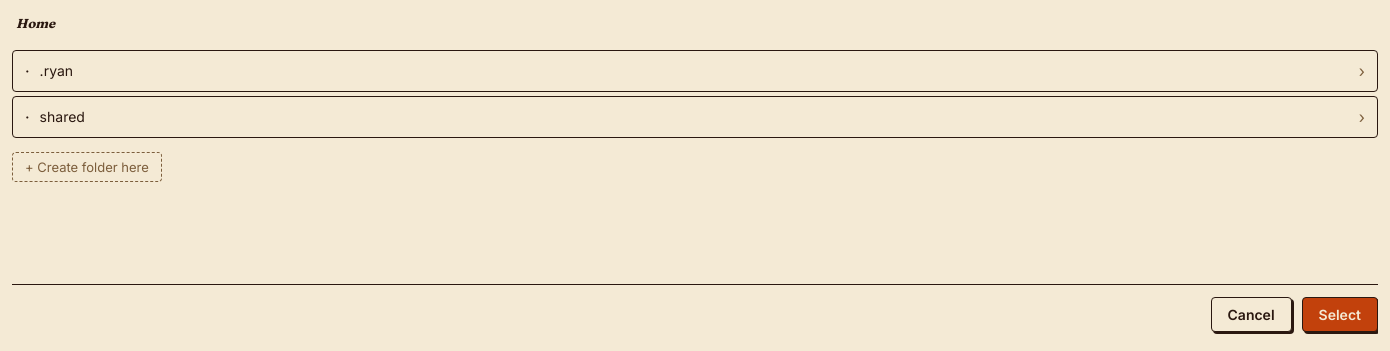
it: FolderPickerModal › drill-down: shows top-level folders at Home, tapping drills in
expect the text "shared" is shown: met, box [40,108,85,125]
Click the text ".ryan" at x=56, y=70, box [40,62,73,79]
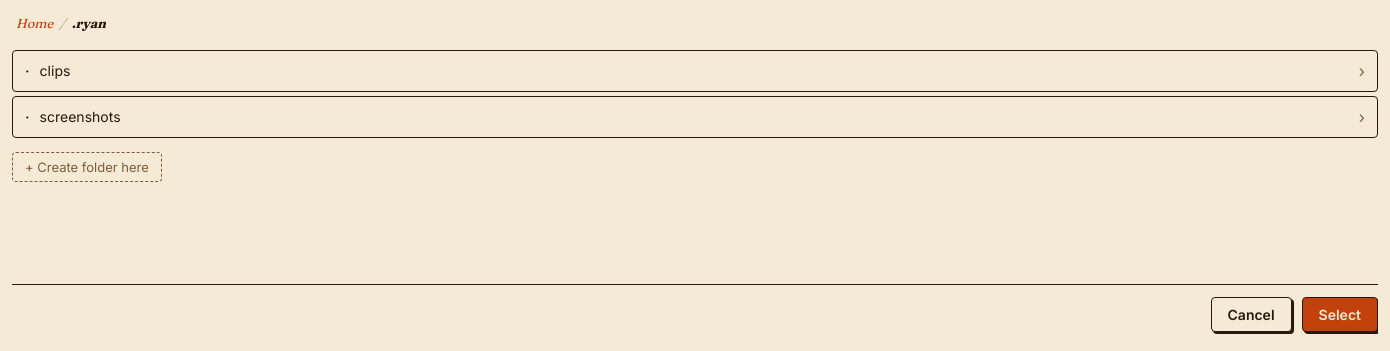
expect the text "clips" is shown: met, box [40,62,70,79]
expect the text "screenshots" is shown: met, box [40,108,120,125]
expect the button "shared" is gone: met
